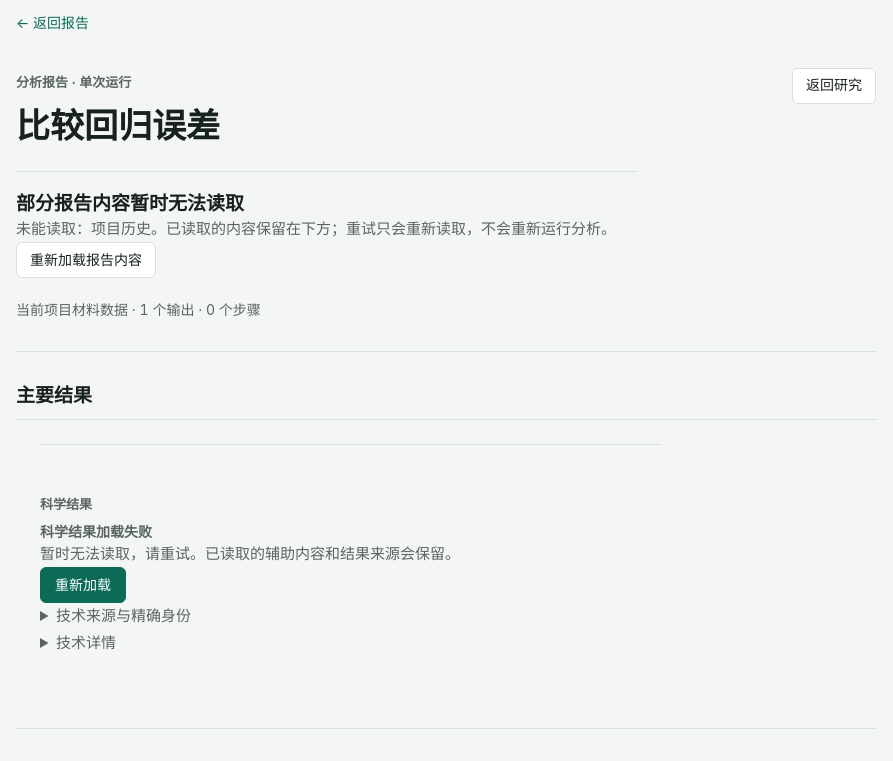
Test: never attaches evidence from a previous interpretation to a newly read interpretation
The image size is (893, 761).
What coordinates should you click on to do the following:
click the button "重新加载报告内容"
I would click on:
 (86, 260)
Its box is [16,242,156,278].
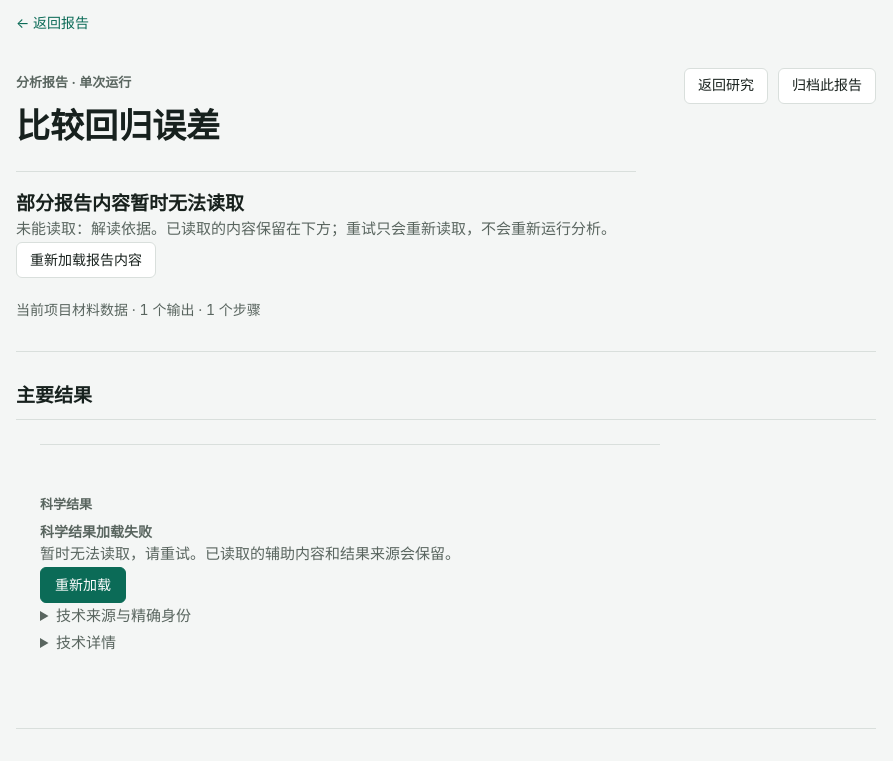
Expected: the text "未能读取：解读依据。已读取的内容保留在下方；重试只会重新读取，不会重新运行分析。" is shown, [16,216,636,242]
